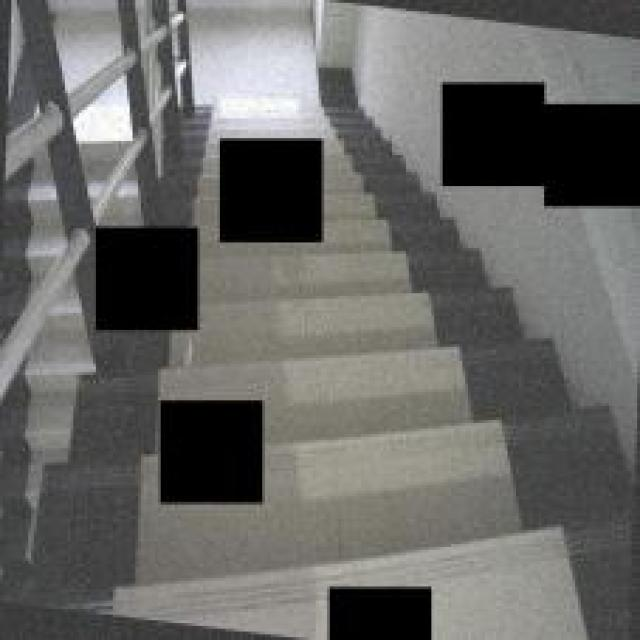downstair: (279, 276, 525, 564)
